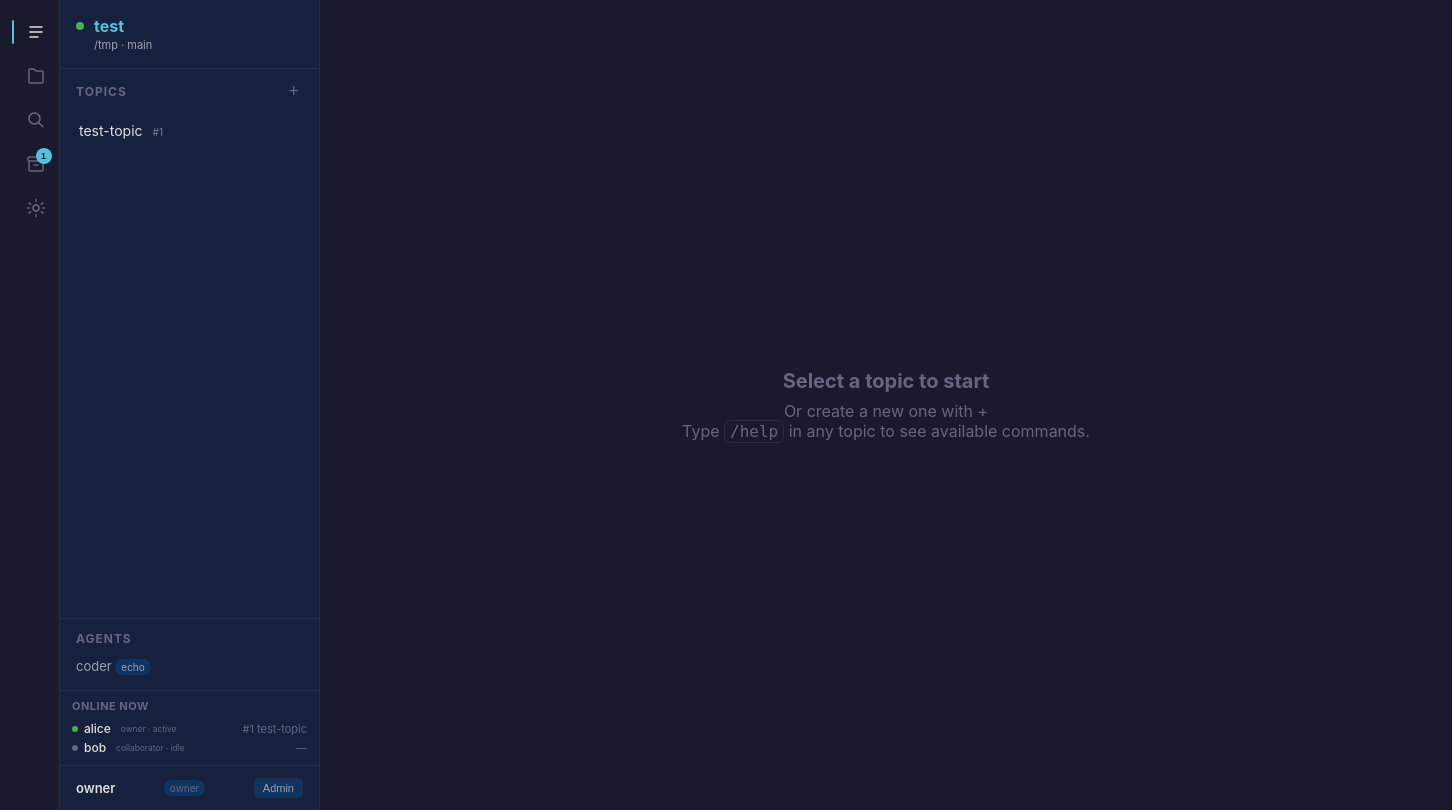
Test: Search activity view › opens search as a dedicated sidebar view from the activity bar
The image size is (1452, 810).
Check: the heading "Select a topic to start" is shown, box [783, 369, 989, 393]
Check: the field with placeholder "Search topics and messages" is not shown
Click the button named "Search" at (36, 120), box [16, 100, 56, 140]
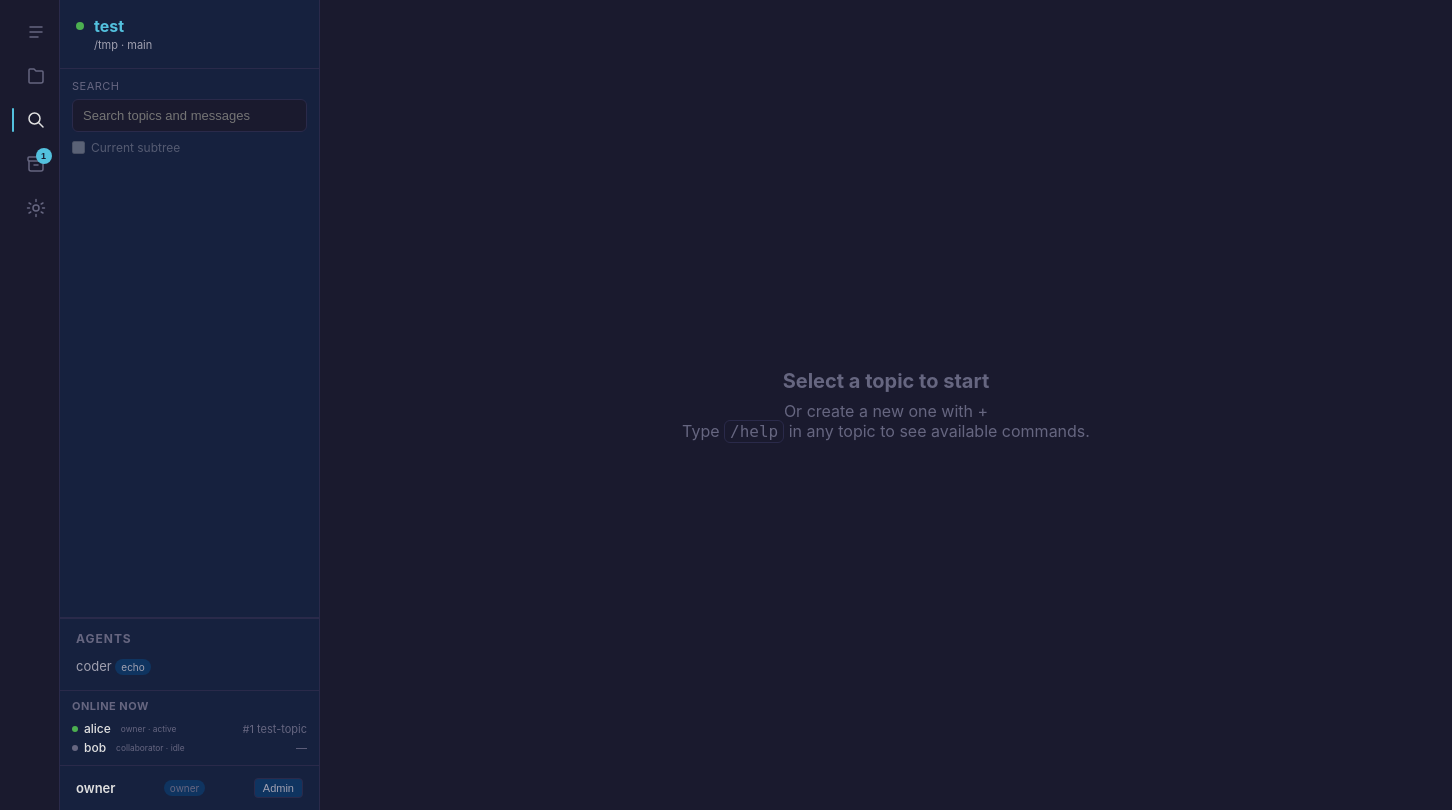
Check: the field with placeholder "Search topics and messages" is shown, box [72, 99, 307, 132]
Check: the element with class "topic-list" is gone
